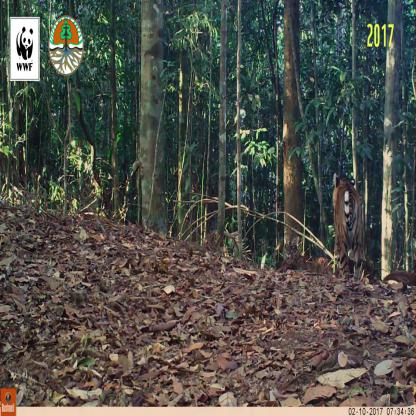Tiger: (328, 161, 369, 287)
